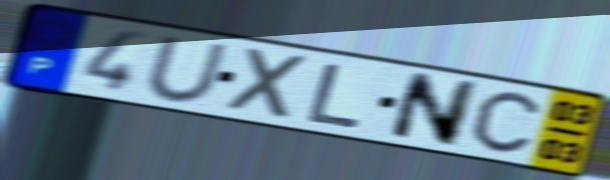4: (79, 27, 145, 95)
C: (469, 89, 543, 156)
L: (303, 60, 366, 131)
N: (385, 69, 482, 150)
U: (143, 33, 232, 107)
X: (224, 44, 316, 124)
